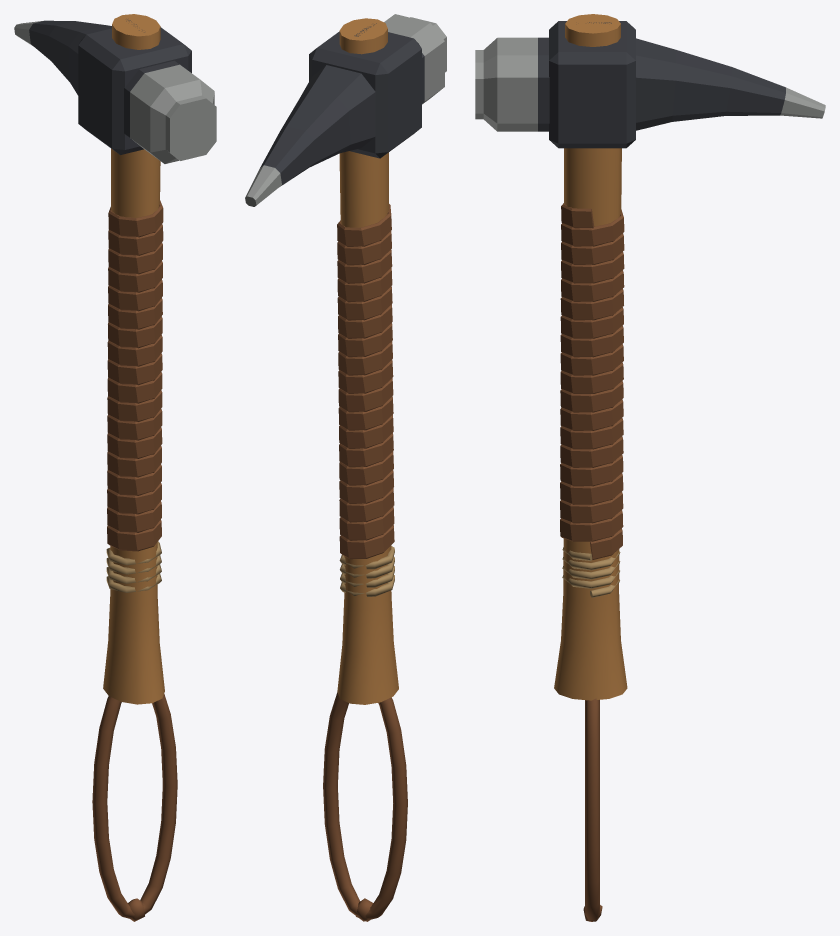
Rendered from tool_rockhammer.fbx.
3 renders of one model, left to right at view 1: azimuth 30°, elevation 25°; view 2: azimuth 150°, elevation 25°; view 3: azimuth 270°, elevation 25°, orthographic.
Visible parts, largest first — view 1: Tool_RockHammer_Wrap, Tool_RockHammer_Head, Tool_RockHammer_Handle, Tool_RockHammer_Thong; view 2: Tool_RockHammer_Wrap, Tool_RockHammer_Head, Tool_RockHammer_Handle, Tool_RockHammer_Thong; view 3: Tool_RockHammer_Head, Tool_RockHammer_Wrap, Tool_RockHammer_Handle, Tool_RockHammer_Thong.
Boxes of the visible parts, bbox=[...] form: Tool_RockHammer_Wrap: bbox=[106, 200, 163, 592]; Tool_RockHammer_Head: bbox=[14, 19, 216, 163]; Tool_RockHammer_Handle: bbox=[103, 14, 164, 704]; Tool_RockHammer_Thong: bbox=[92, 694, 177, 921]; Tool_RockHammer_Wrap: bbox=[337, 204, 394, 596]; Tool_RockHammer_Head: bbox=[245, 14, 446, 206]; Tool_RockHammer_Handle: bbox=[337, 18, 398, 704]; Tool_RockHammer_Thong: bbox=[323, 692, 407, 921]; Tool_RockHammer_Head: bbox=[475, 21, 825, 148]; Tool_RockHammer_Wrap: bbox=[560, 203, 624, 597]; Tool_RockHammer_Handle: bbox=[554, 14, 627, 700]; Tool_RockHammer_Thong: bbox=[583, 698, 602, 921].
Size of the model in its own units: 6.95 by 72.93 by 25.72.
